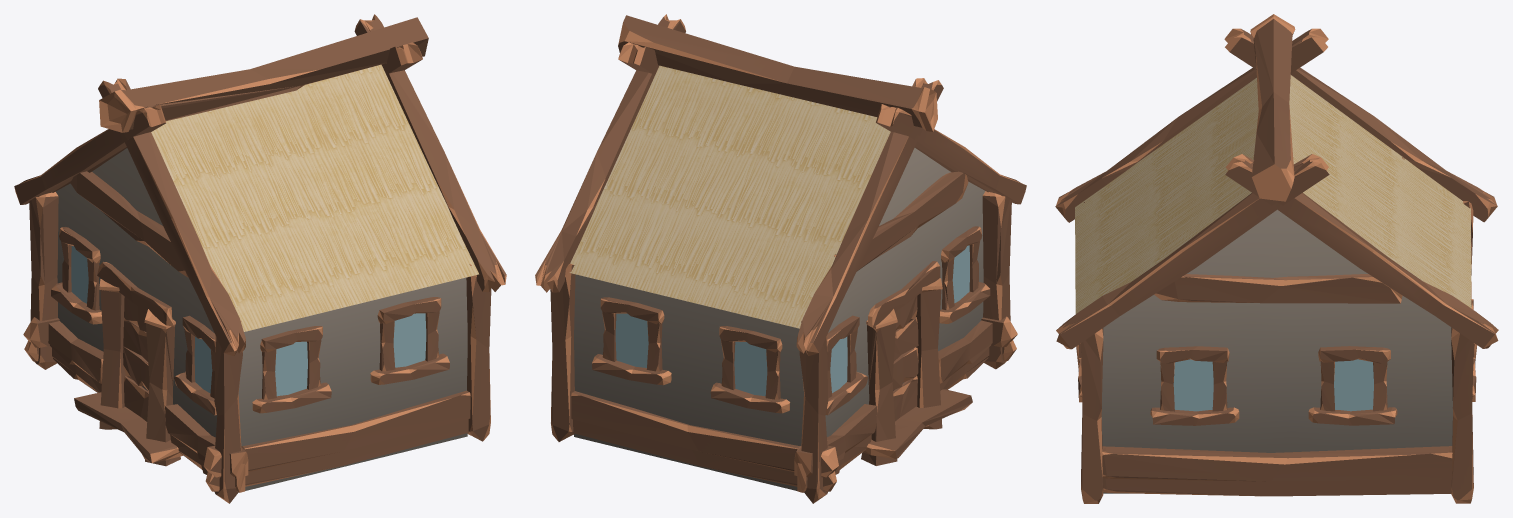
File: House.002.fbx
3 views of the same model, side by side, from view 1: azimuth 30°, elevation 25°; view 2: azimuth 150°, elevation 25°; view 3: azimuth 270°, elevation 25° (orthographic).
Visible parts, largest first — view 1: House.002; view 2: House.002; view 3: House.002.
Part boxes in pixels (x1=…): House.002: x1=14, y1=14, x2=506, y2=503; House.002: x1=535, y1=14, x2=1026, y2=503; House.002: x1=1055, y1=14, x2=1498, y2=503.
Bounding box in the file's own units: 234 × 257 × 284.
